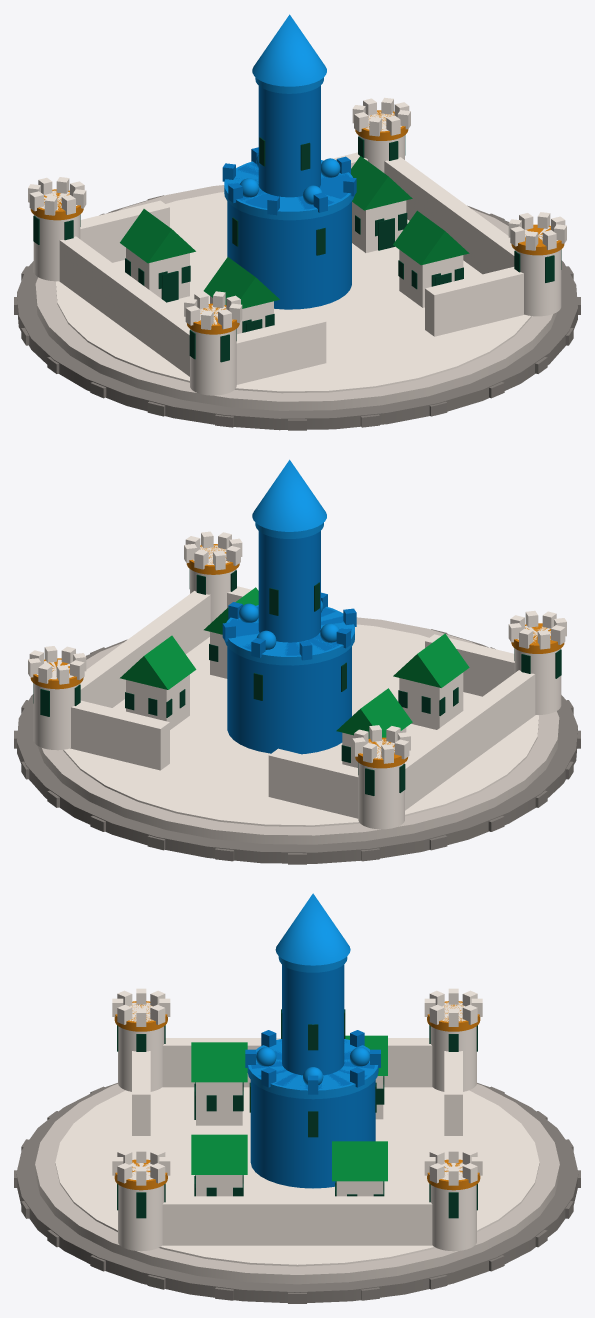
File: city_monitor.glb
3 views of the same model, one above another, from view 1: azimuth 30°, elevation 25°; view 2: azimuth 150°, elevation 25°; view 3: azimuth 270°, elevation 25° (orthographic).
Parts seen in each view (by area): view 1: city-floor_grey, curtain-wall_white, corner-tower_white, lower-plinth_stone, upper-plinth_white, watch-base_white, gate-wall_white, courtyard-building_green, watchtower_white, courtyard-building_white, watchtower_blue, courtyard-building_darkgreen (+5 smaller); view 2: city-floor_grey, curtain-wall_white, corner-tower_white, watch-base_white, lower-plinth_stone, upper-plinth_white, courtyard-building_green, watchtower_white, courtyard-building_white, watchtower_blue, gate-wall_white, plinth-tooth_stone (+5 smaller); view 3: city-floor_grey, curtain-wall_white, corner-tower_white, upper-plinth_white, lower-plinth_stone, watch-base_white, courtyard-building_green, watchtower_white, courtyard-building_white, watchtower_blue, watch-base_stone, plinth-tooth_stone (+5 smaller).
Boxes of the visible parts, x1,y1,x2,y2 form: city-floor_grey: [56, 192, 531, 393]; curtain-wall_white: [59, 152, 514, 376]; corner-tower_white: [28, 97, 566, 395]; lower-plinth_stone: [17, 197, 577, 430]; upper-plinth_white: [35, 185, 557, 410]; watch-base_white: [222, 147, 356, 309]; gate-wall_white: [236, 267, 523, 384]; courtyard-building_green: [120, 156, 469, 308]; watchtower_white: [258, 85, 320, 197]; courtyard-building_white: [126, 200, 463, 334]; watchtower_blue: [252, 14, 326, 86]; courtyard-building_darkgreen: [125, 212, 463, 332]; city-floor_grey: [63, 624, 538, 826]; curtain-wall_white: [70, 591, 535, 818]; corner-tower_white: [28, 531, 566, 829]; watch-base_white: [222, 592, 356, 754]; lower-plinth_stone: [17, 630, 577, 863]; upper-plinth_white: [37, 617, 559, 844]; courtyard-building_green: [120, 587, 469, 738]; watchtower_white: [258, 531, 320, 642]; courtyard-building_white: [126, 631, 463, 767]; watchtower_blue: [252, 459, 326, 531]; gate-wall_white: [227, 586, 514, 696]; plinth-tooth_stone: [14, 629, 580, 864]; city-floor_grey: [55, 1087, 539, 1266]; curtain-wall_white: [162, 1038, 462, 1245]; corner-tower_white: [112, 988, 482, 1251]; upper-plinth_white: [35, 1084, 559, 1284]; lower-plinth_stone: [16, 1083, 578, 1302]; watch-base_white: [245, 1030, 380, 1188]; courtyard-building_green: [191, 1035, 387, 1181]; watchtower_white: [282, 964, 344, 1075]; courtyard-building_white: [196, 1076, 383, 1196]; watchtower_blue: [275, 893, 350, 965]; watch-base_stone: [247, 1039, 378, 1099]; plinth-tooth_stone: [14, 1086, 580, 1303].
Size of the model in its own units: 23.59 by 13.39 by 23.59.
